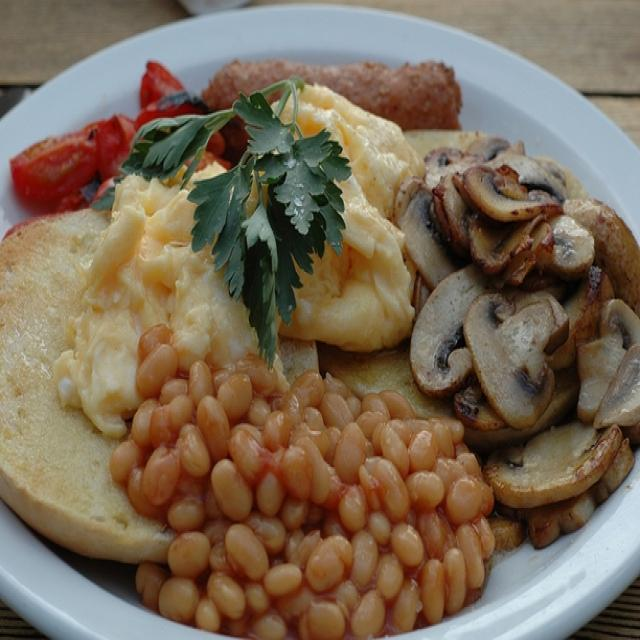鸡蛋料理: (16, 15, 619, 622)
